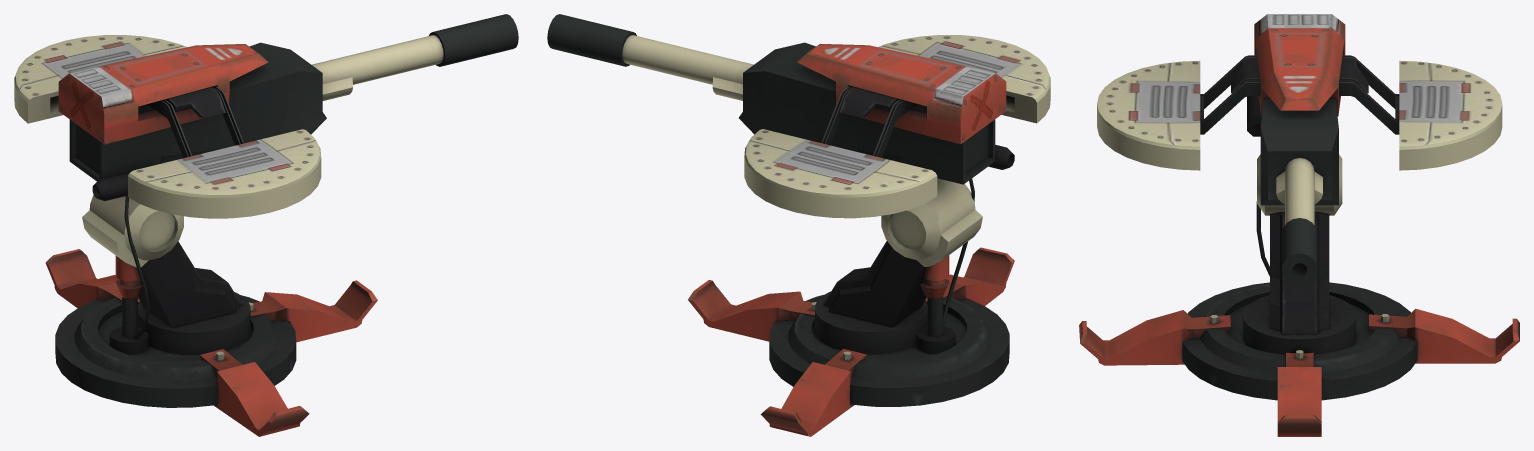
The model's file is Turret.glb.
3 renders of one model, left to right at view 1: azimuth 30°, elevation 25°; view 2: azimuth 150°, elevation 25°; view 3: azimuth 270°, elevation 25°, orthographic.
Visible parts, largest first — view 1: Cylinder.002; view 2: Cylinder.002; view 3: Cylinder.002.
Boxes of the visible parts, bbox=[...] form: Cylinder.002: bbox=[14, 14, 518, 436]; Cylinder.002: bbox=[547, 14, 1050, 436]; Cylinder.002: bbox=[1079, 14, 1519, 436].
Size of the model in its own units: 7.13 by 4.64 by 6.24.
1 material, 1 textured.
